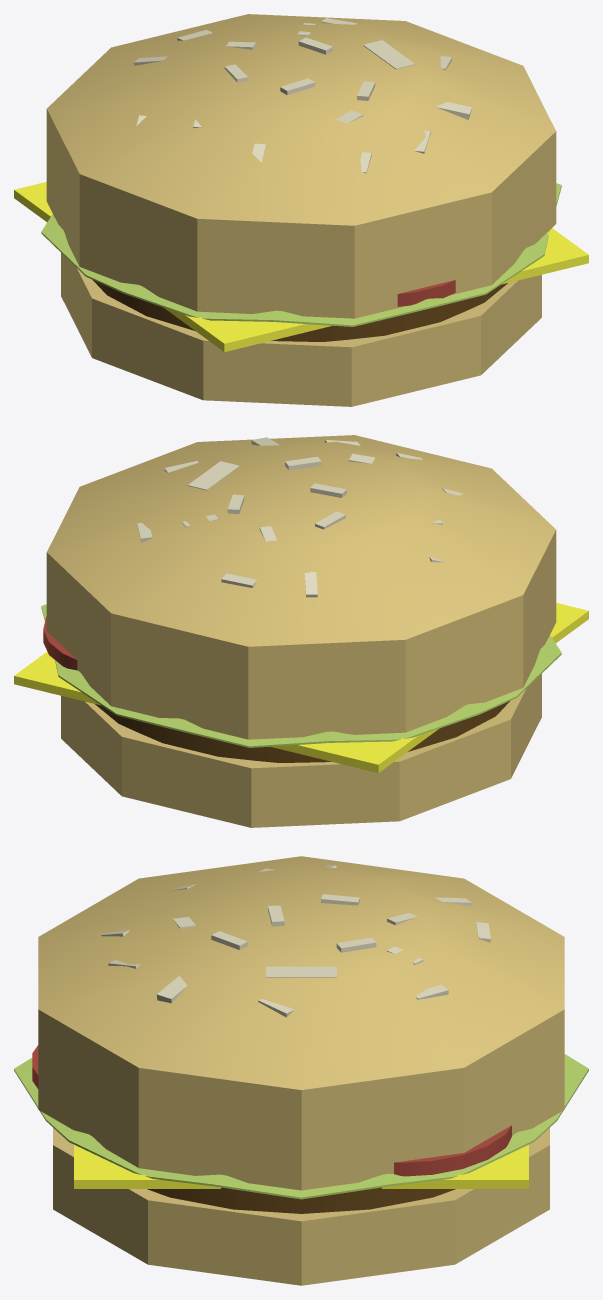
File: NC_Burger_03_DF.fbx
3 renders of one model, top to bottom at view 1: azimuth 30°, elevation 25°; view 2: azimuth 150°, elevation 25°; view 3: azimuth 270°, elevation 25°, orthographic. The views are drawn at different scales.
Visible parts, largest first — view 1: TopBun, BottomBun, Lettuce, Cheese, pCube36, Burger2, Tomato; view 2: TopBun, BottomBun, Lettuce, Cheese, pCube36, Burger2, Tomato2; view 3: TopBun, BottomBun, Lettuce, Cheese, pCube36, Burger2, Tomato2.
Boxes of the visible parts, <box> form: TopBun: <box>46,14,556,318</box>; BottomBun: <box>61,253,541,406</box>; Lettuce: <box>41,183,561,326</box>; Cheese: <box>14,182,588,351</box>; pCube36: <box>133,18,471,173</box>; Burger2: <box>93,280,507,341</box>; Tomato: <box>397,280,455,306</box>; TopBun: <box>46,435,556,739</box>; BottomBun: <box>61,674,541,827</box>; Lettuce: <box>41,604,561,747</box>; Cheese: <box>14,603,588,772</box>; pCube36: <box>137,437,463,597</box>; Burger2: <box>95,701,509,762</box>; Tomato2: <box>43,616,77,670</box>; TopBun: <box>38,856,564,1190</box>; BottomBun: <box>53,1128,549,1285</box>; Lettuce: <box>14,1054,588,1199</box>; Cheese: <box>74,1144,528,1188</box>; pCube36: <box>101,865,490,1017</box>; Burger2: <box>147,1187,455,1213</box>; Tomato2: <box>394,1125,511,1176</box>.
Bounding box in the file's own units: 0.303 × 0.1531 × 0.3147.
